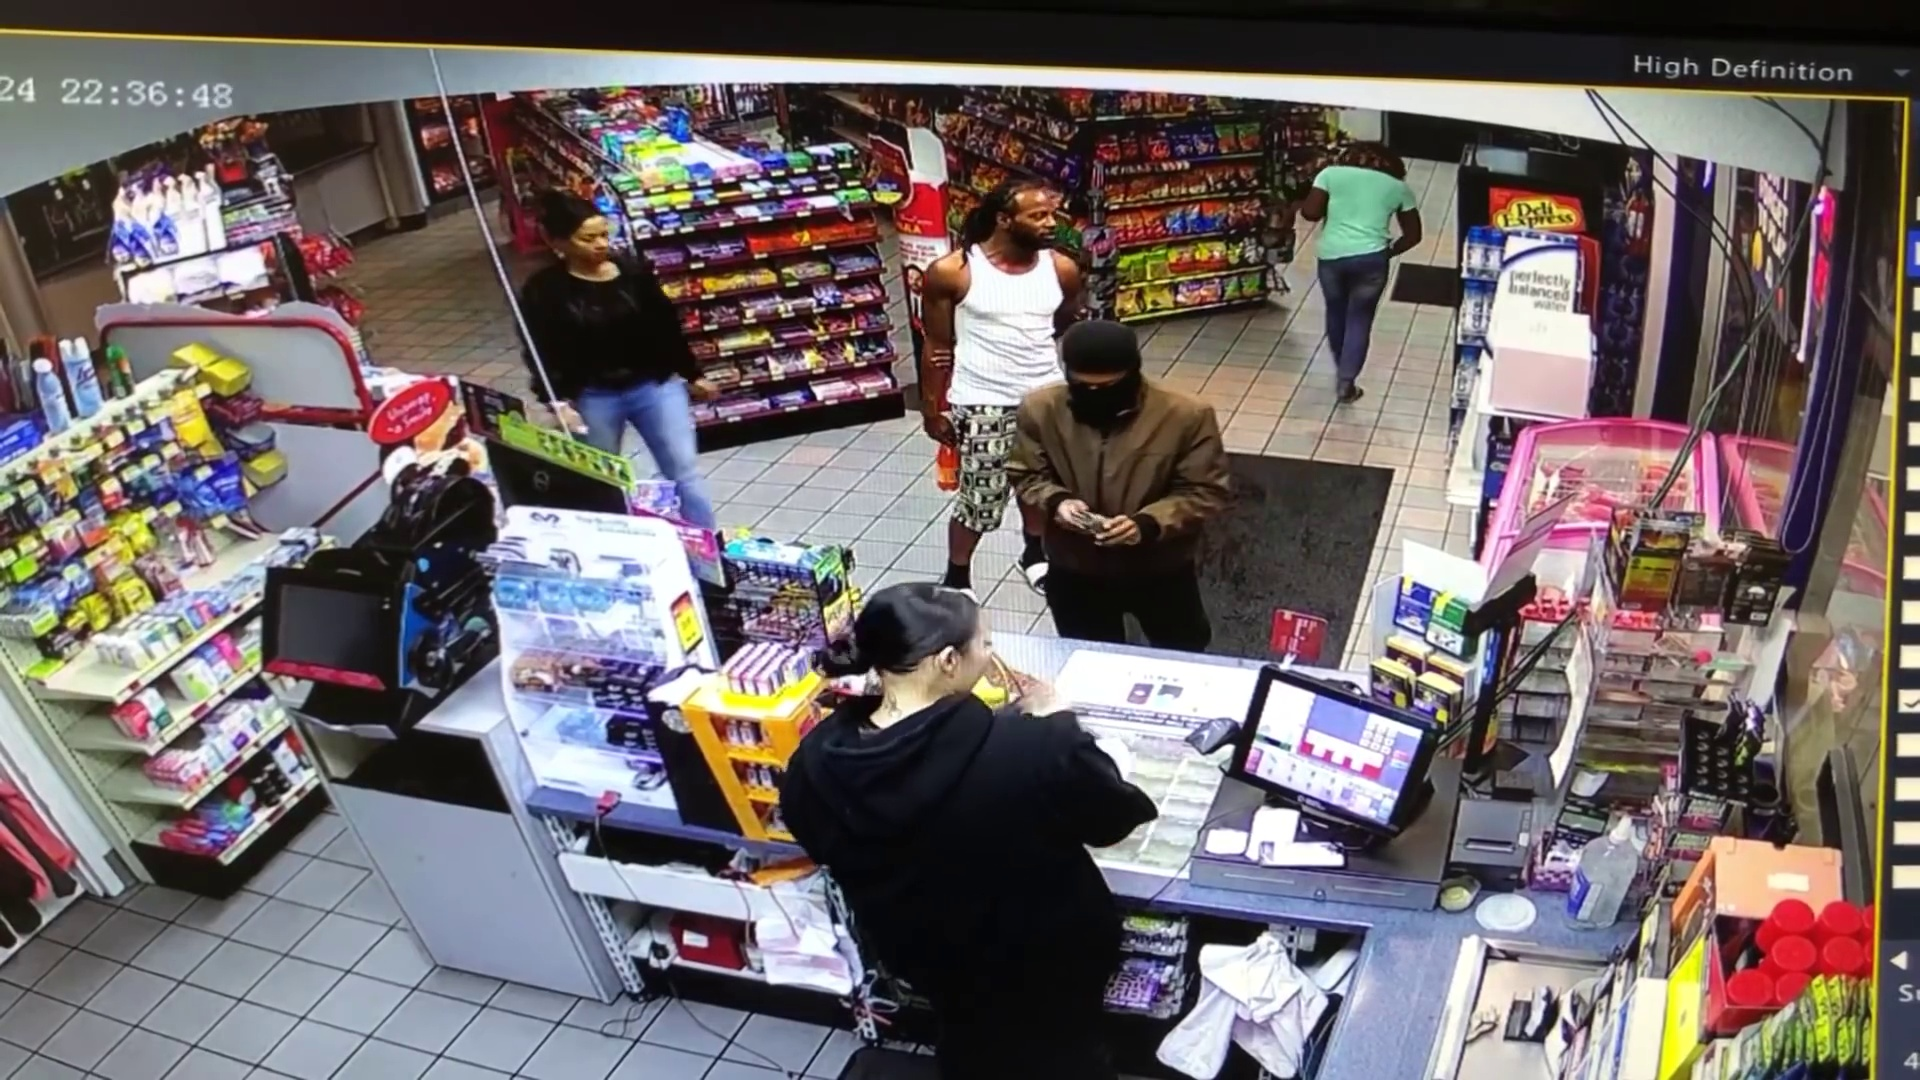face: (1011, 192, 1059, 257), (562, 216, 609, 269)
